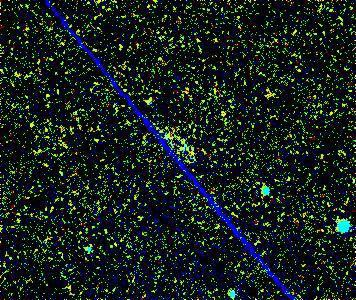star: (253, 77, 283, 107)
